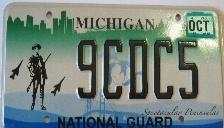5: (176, 38, 201, 101)
9: (73, 38, 100, 100)
C: (150, 38, 176, 102), (101, 38, 125, 101)
D: (127, 37, 150, 101)
